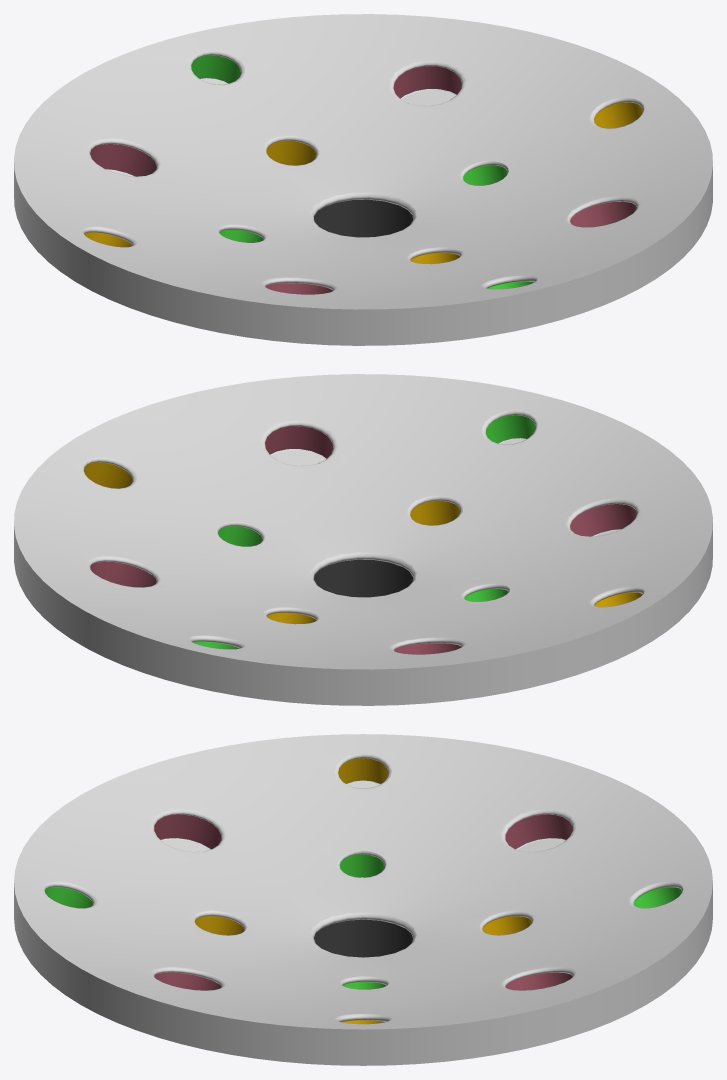
File: Roulette_Base.fbx
3 views of the same model, one above another, from view 1: azimuth 30°, elevation 25°; view 2: azimuth 150°, elevation 25°; view 3: azimuth 270°, elevation 25° (orthographic).
Parts seen in each view (by area): view 1: Roulette_Base; view 2: Roulette_Base; view 3: Roulette_Base.
Boxes of the visible parts, <box> form: Roulette_Base: <box>14,14,712,345</box>; Roulette_Base: <box>14,374,712,705</box>; Roulette_Base: <box>14,734,712,1065</box>.
Bounding box in the file's own units: 3785 × 649 × 3785.
